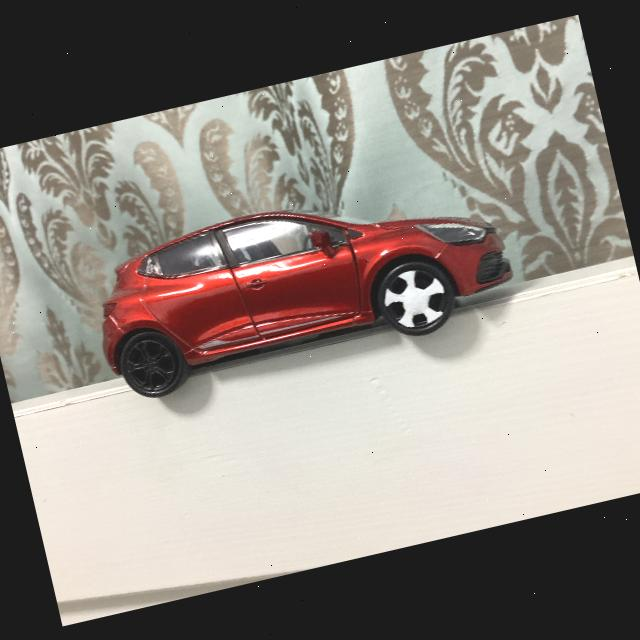Dogru_Jant: (120, 334, 180, 395)
Yanlis_Jant: (378, 264, 452, 334)
